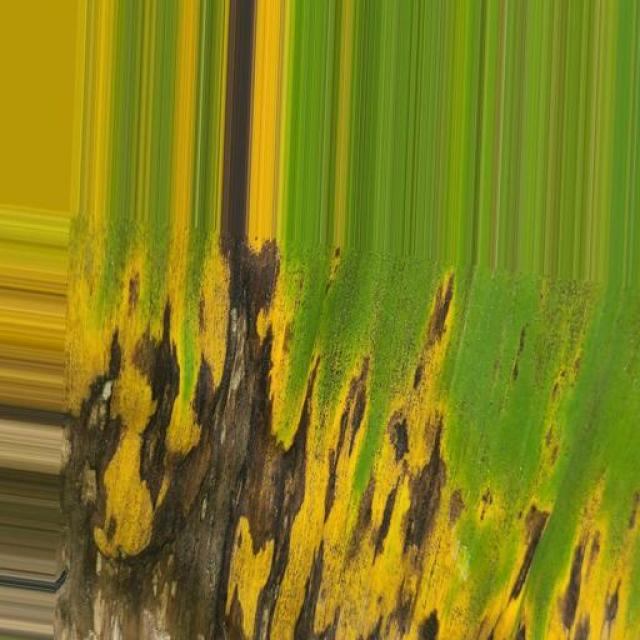Early_rust: (50, 169, 640, 640)
